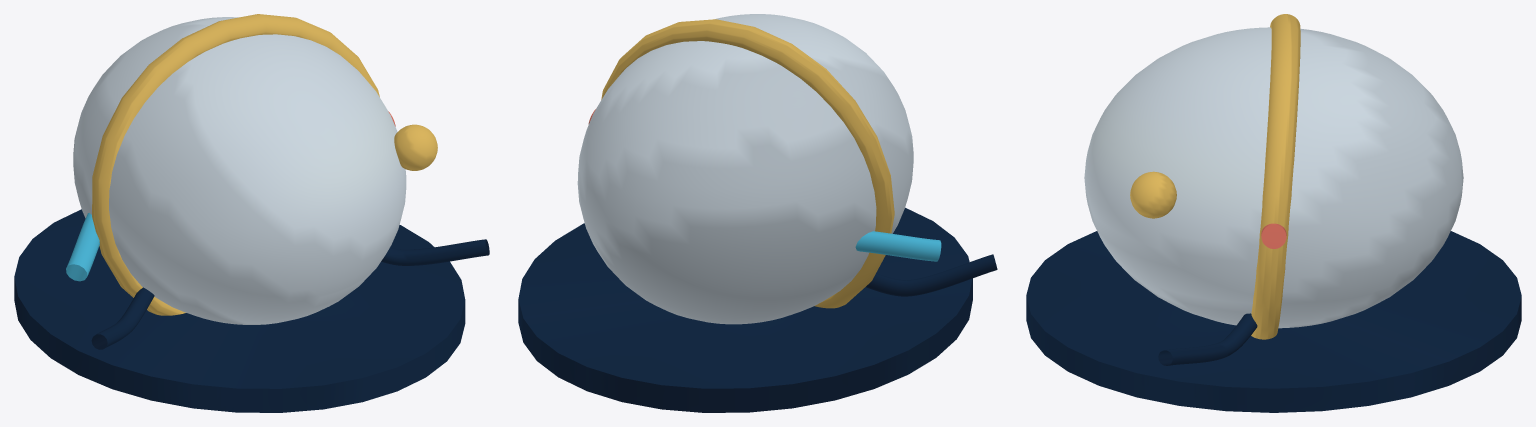
The model's file is 1233_细胞图鉴_遗传物质.glb.
3 renders of one model, left to right at view 1: azimuth 30°, elevation 25°; view 2: azimuth 150°, elevation 25°; view 3: azimuth 270°, elevation 25°, orthographic.
Visible parts, largest first — view 1: card_1233; view 2: card_1233; view 3: card_1233.
Boxes of the visible parts, box(x1,y1,x2,y2) form: card_1233: box(14, 14, 489, 412); card_1233: box(518, 14, 997, 412); card_1233: box(1026, 14, 1521, 412).
Bounding box in the file's own units: 1.4 × 1 × 1.51.
